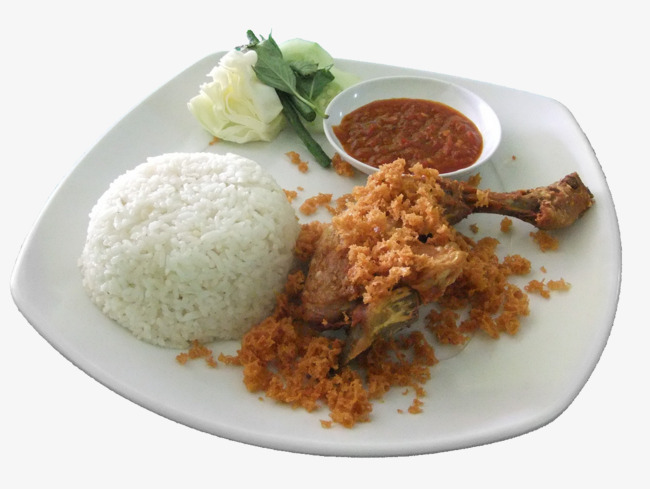chopped lettuce: (205, 49, 313, 143)
plain rice: (88, 176, 287, 315)
